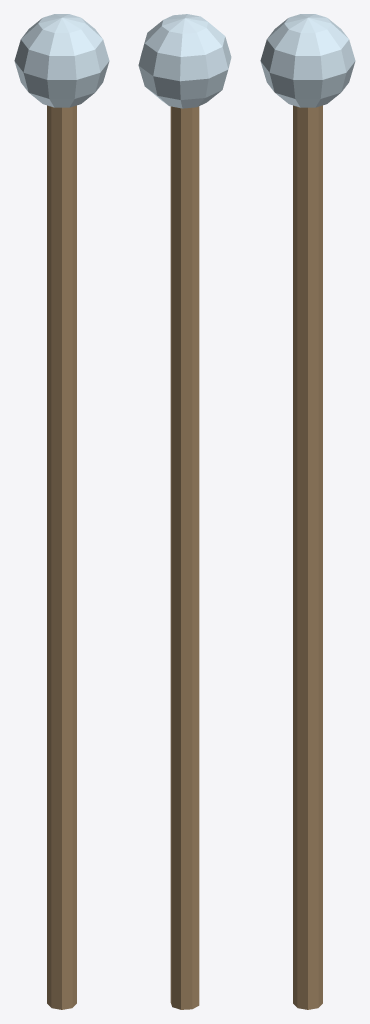
File: sm_staff.glb
3 views of the same model, side by side, from view 1: azimuth 90°, elevation 25°; view 2: azimuth 210°, elevation 25°; view 3: azimuth 270°, elevation 25° (orthographic).
Visible parts, largest first — view 1: sm_staff; view 2: sm_staff; view 3: sm_staff.
Boxes of the visible parts, x1,y1,x2,y2 form: sm_staff: (14,14,109,1009); sm_staff: (138,14,231,1009); sm_staff: (260,14,355,1009).
Size of the model in its own units: 0.1522 by 1.83 by 0.16.
